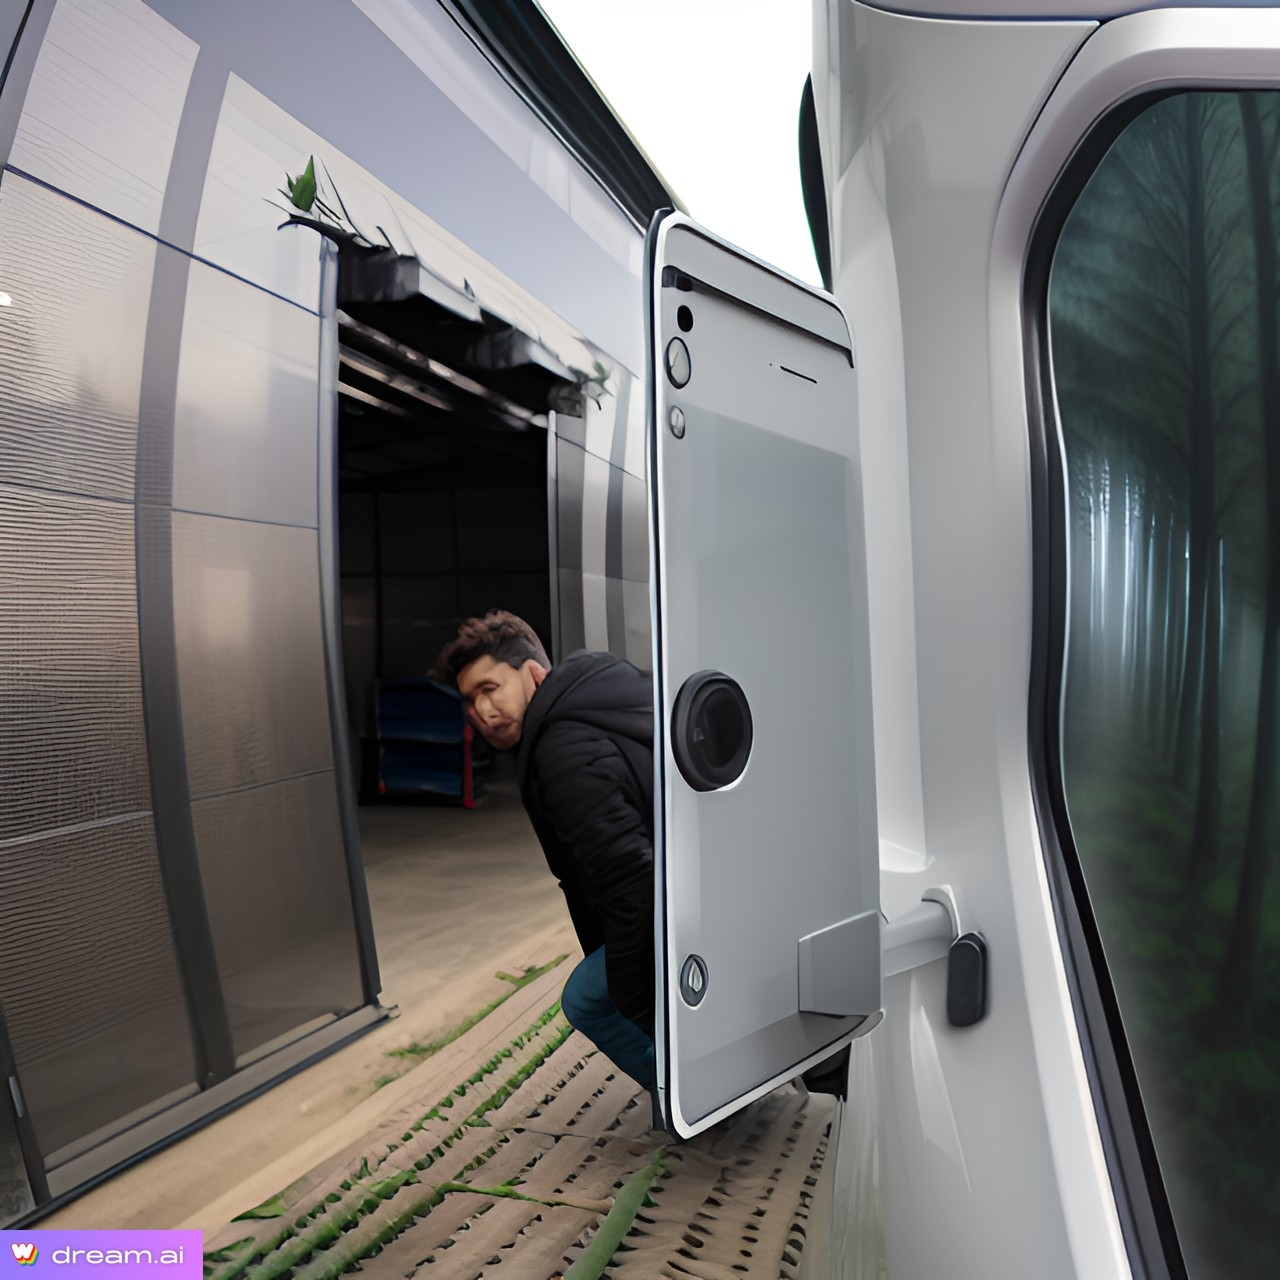door_front: (610, 193, 912, 1150)
